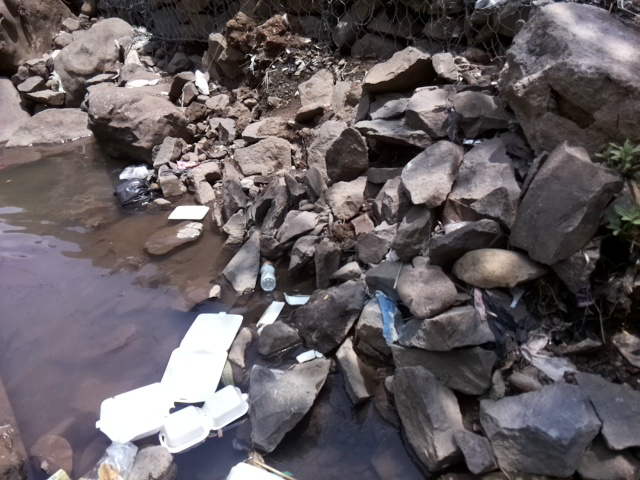Sampah_Botol_Plastik: (258, 259, 278, 293)
Sampah_Plastik: (110, 177, 156, 213), (118, 164, 153, 182)
Sampah_Styrofoam: (94, 309, 250, 454), (258, 294, 310, 326), (168, 200, 209, 224)
